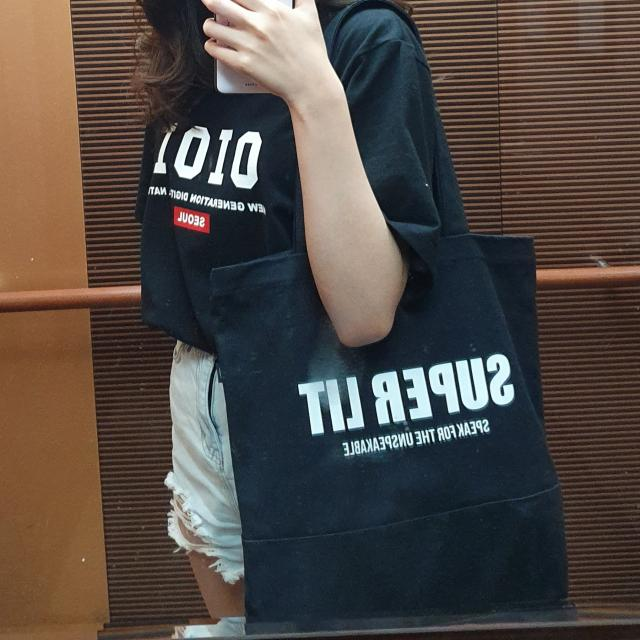ecobag: (183, 8, 587, 633)
